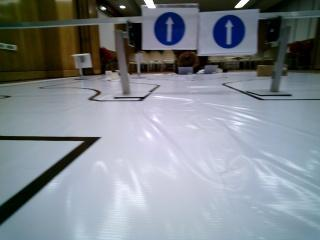straight: (199, 13, 257, 52), (146, 5, 196, 48)
